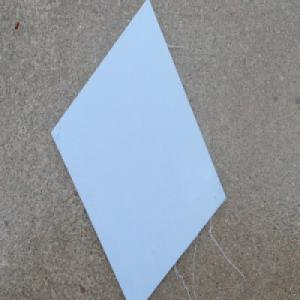PaintChip: (50, 0, 226, 300)
